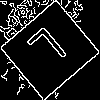L: (25, 25, 76, 78)
